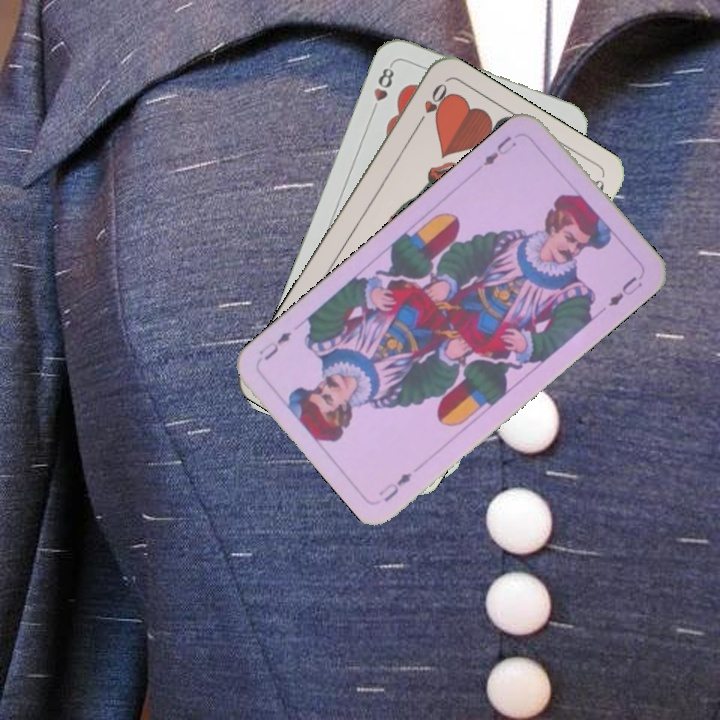EU: (479, 131, 519, 169), (374, 468, 415, 505)
H8: (367, 60, 397, 117)
HO: (411, 79, 450, 131)
